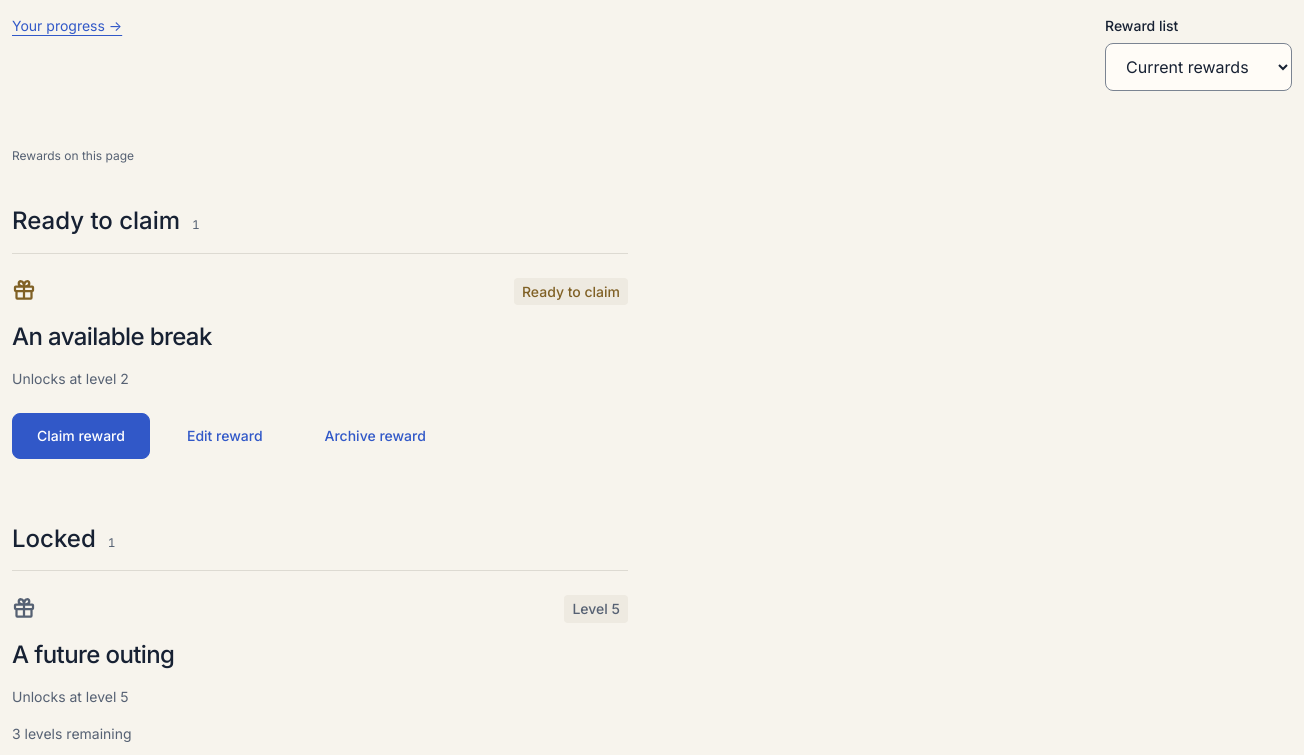
Test: reward groups describe the returned page and retain eligible claim actions
This screenshot has width=1304, height=755.
(page scrolled)
Check: the text "Rewards on this page" is shown, box [12, 148, 134, 163]
Check: the element "An available break" is shown, box [12, 253, 628, 483]
Click the button "Claim reward". click: (81, 436)
box: [12, 413, 150, 459]
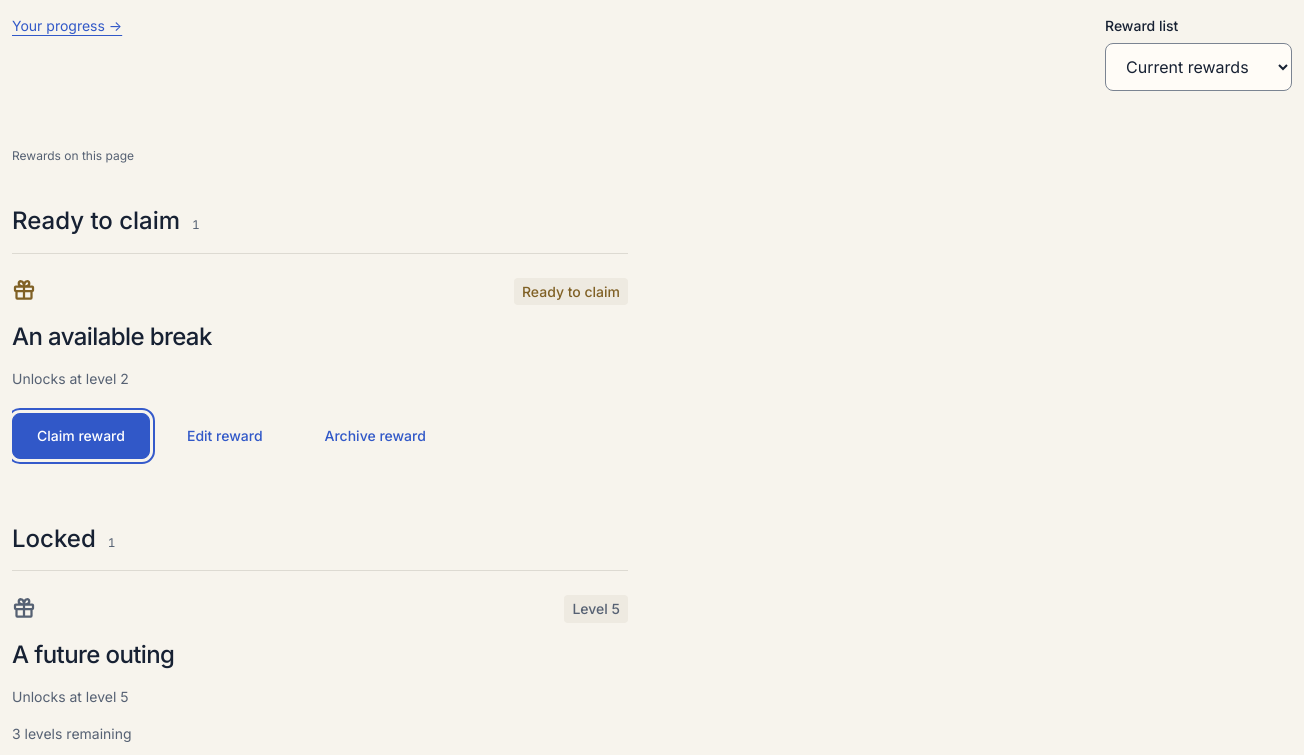
Select "Archived rewards" in the dropdown labelled "Reward list". click: (1198, 67)
box: [1105, 43, 1292, 91]
(page scrolled)
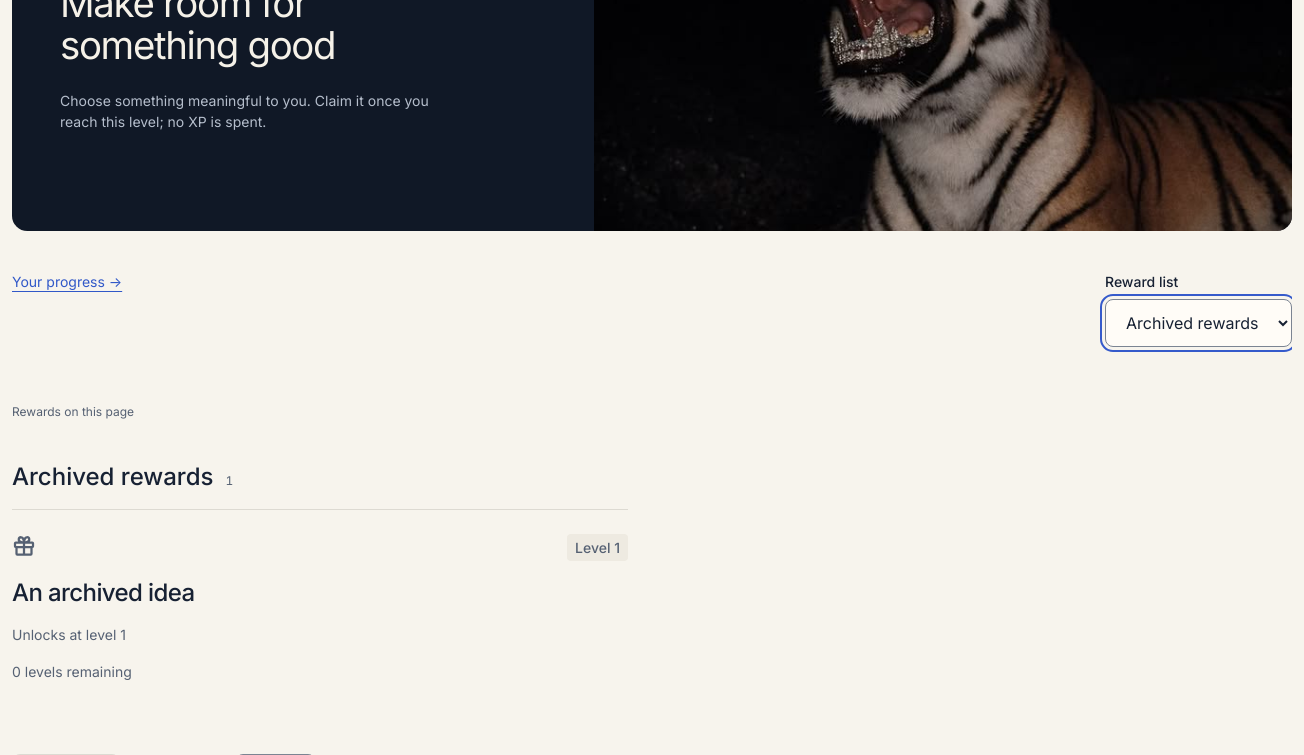
Check: the element "Archived rewards" shows "An archived idea", box [12, 578, 195, 607]
Check: the heading "Locked" is gone
Check: the button "Claim reward" is gone
